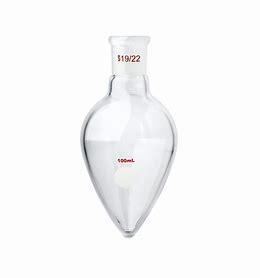Pear shaped flask: (82, 31, 179, 238)
